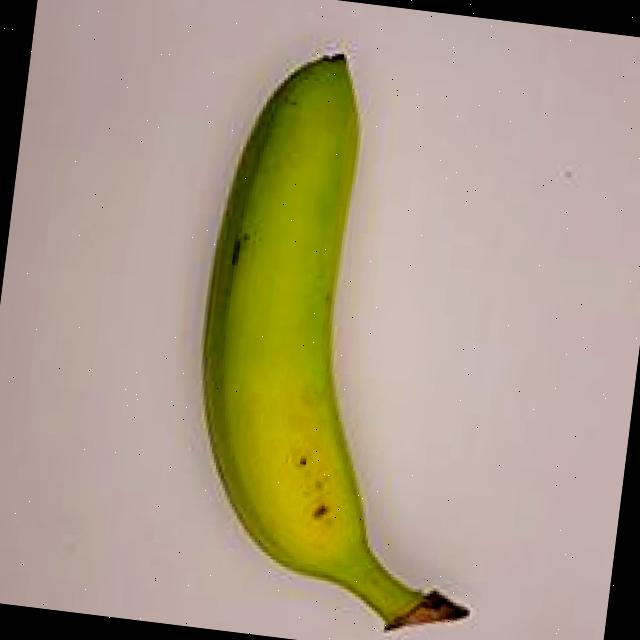Unripe: (153, 15, 548, 640)
